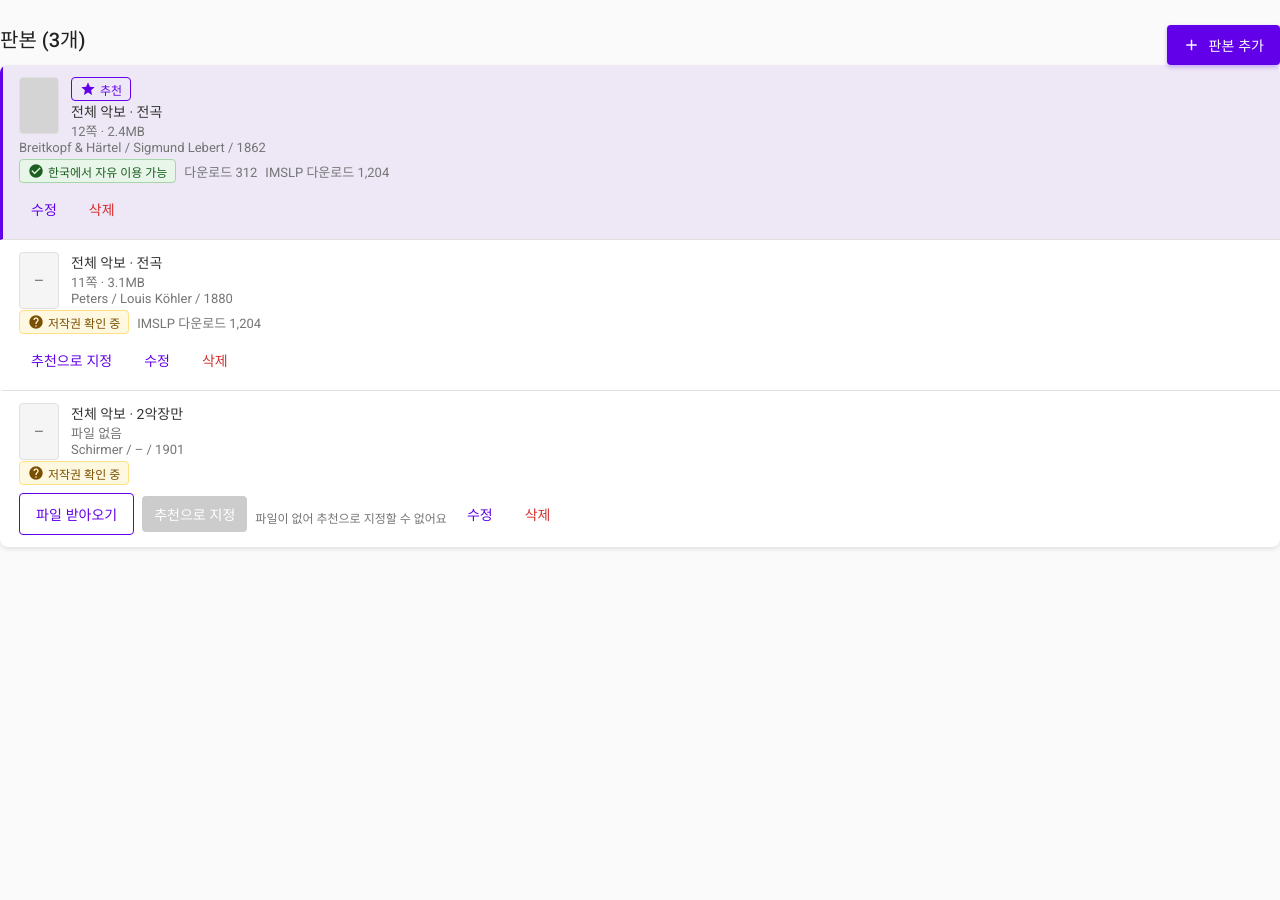
Test: EditionListSection — 목록·행 표시 › 행의 '수정' 은 판본 수정 모달을 연다
Step 1. Click the button "수정" below "Peters / Louis Köhler / 1880" → (157, 360), box x1=132 y1=342 x2=182 y2=378
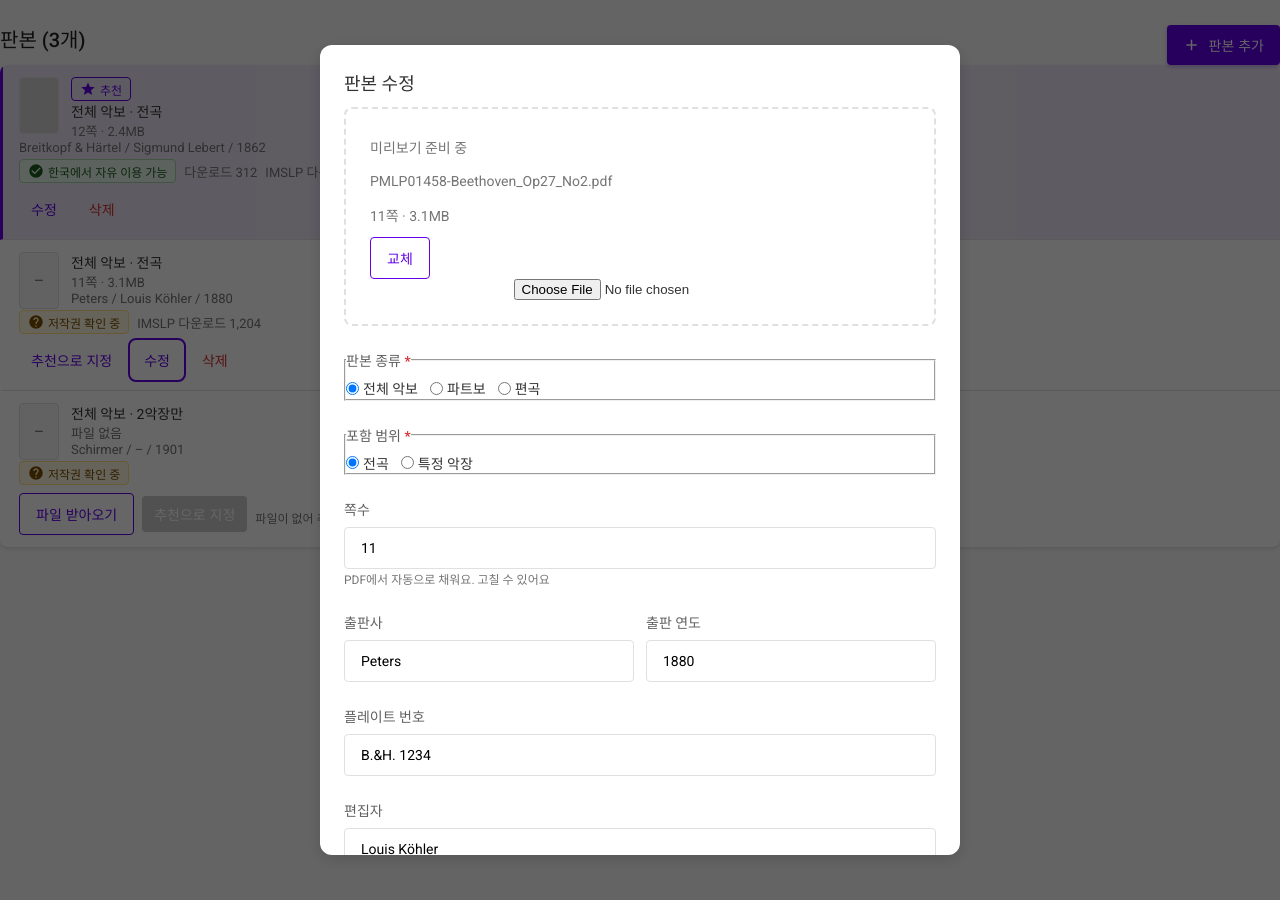
Now the heading "판본 수정" is shown, box x1=344 y1=73 x2=415 y2=94
